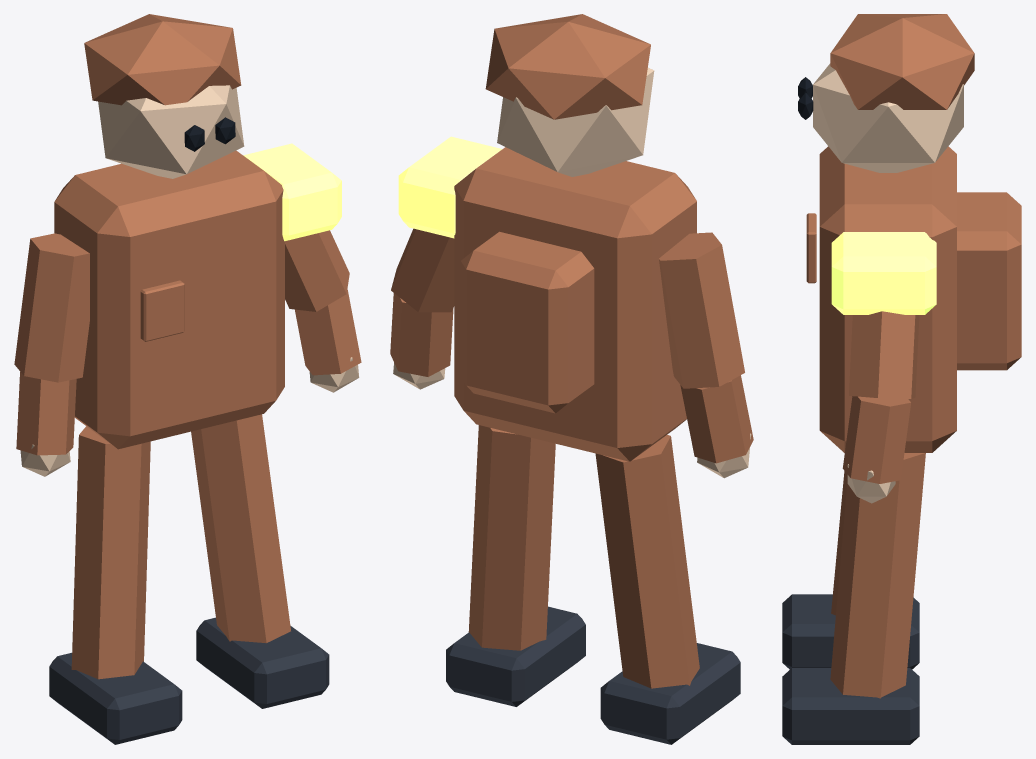
The model's file is npcs_031_seed11.glb.
3 renders of one model, left to right at view 1: azimuth 30°, elevation 25°; view 2: azimuth 150°, elevation 25°; view 3: azimuth 270°, elevation 25°, orthographic. The views are drawn at different scales.
Parts seen in each view (by area): view 1: npcs_031_seed11; view 2: npcs_031_seed11; view 3: npcs_031_seed11.
Part boxes in pixels (x1=…): npcs_031_seed11: x1=14, y1=14, x2=361, y2=744; npcs_031_seed11: x1=390, y1=14, x2=753, y2=744; npcs_031_seed11: x1=782, y1=14, x2=1021, y2=744.
Size of the model in its own units: 0.9618 by 1.79 by 0.5761.
